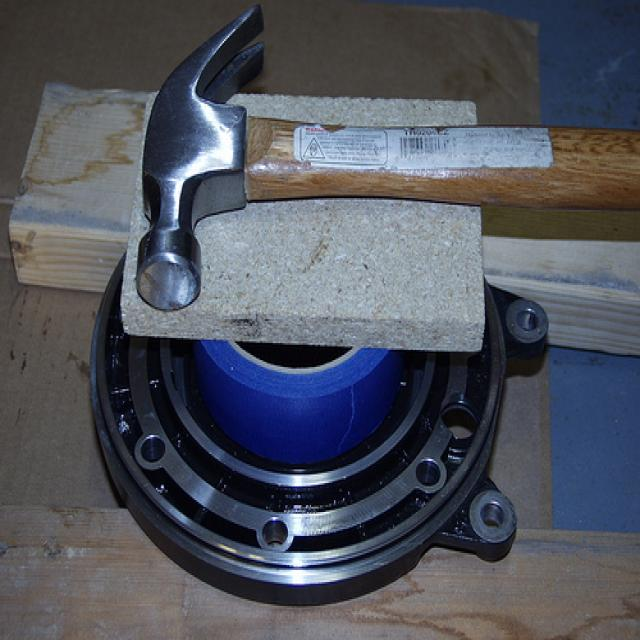hammer: (109, 0, 640, 319)
